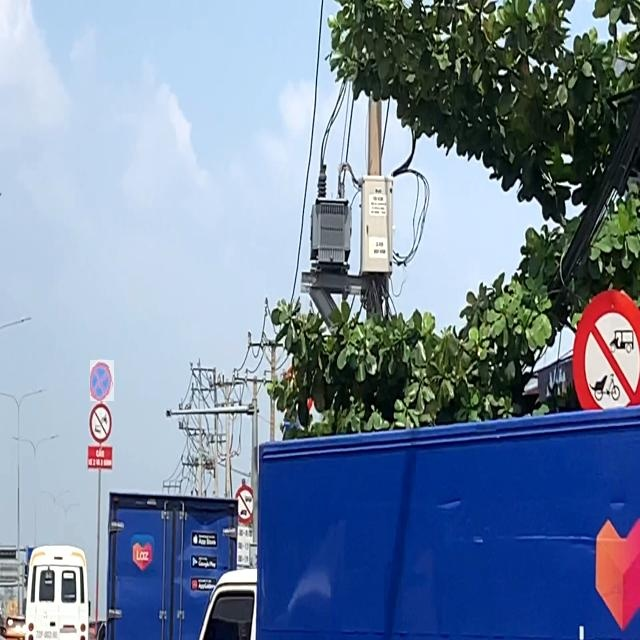bien_cam: (90, 360, 114, 401)
